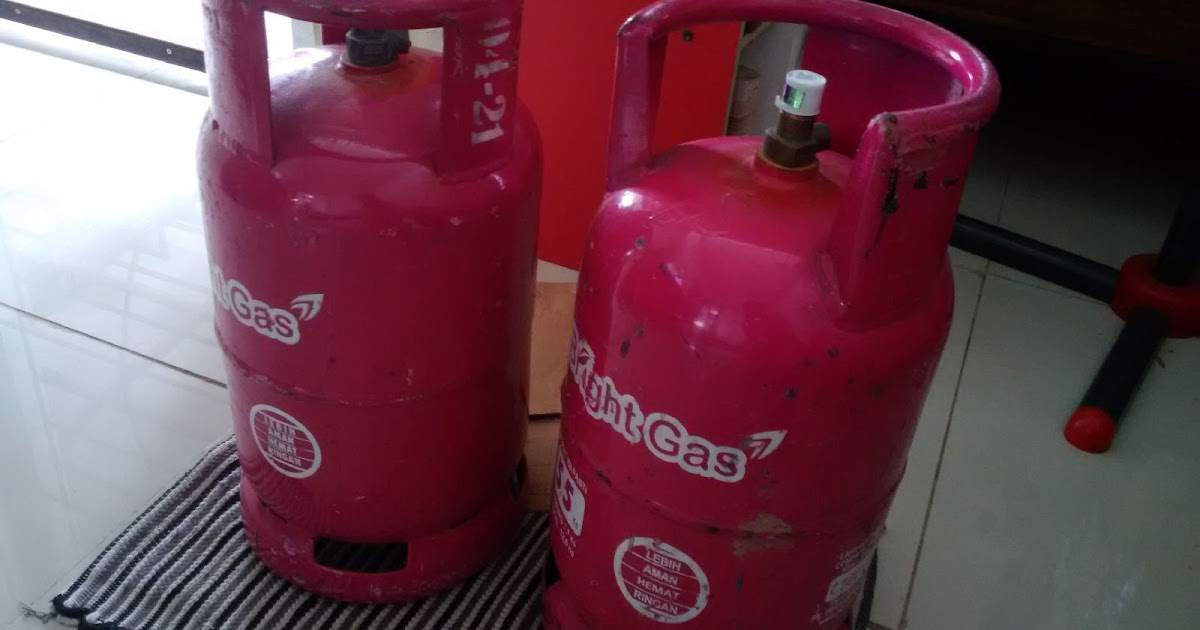bright_gas: (548, 3, 999, 630), (197, 2, 544, 606)
